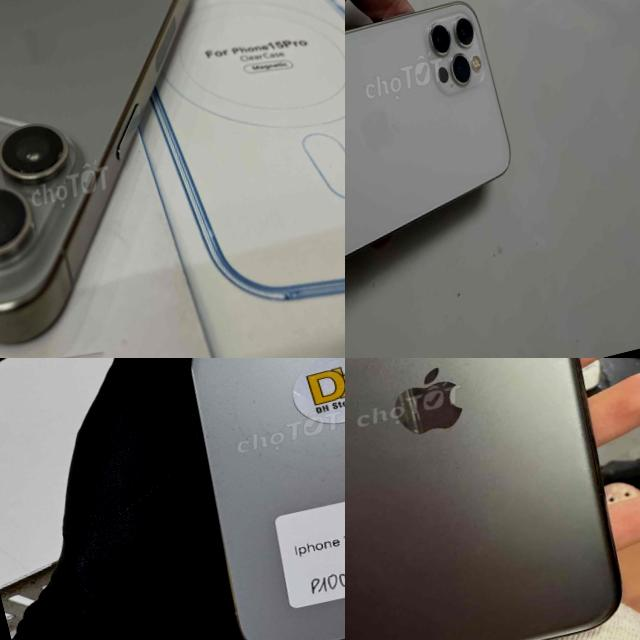gen_11: (345, 358, 620, 640)
gen_12_13: (345, 0, 539, 319)
gen_15: (0, 0, 283, 358), (87, 358, 345, 640)
